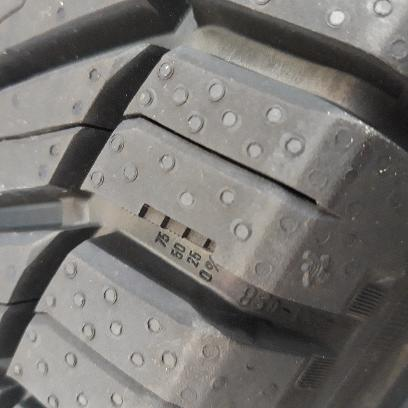temoin:100: (119, 202, 219, 258)
